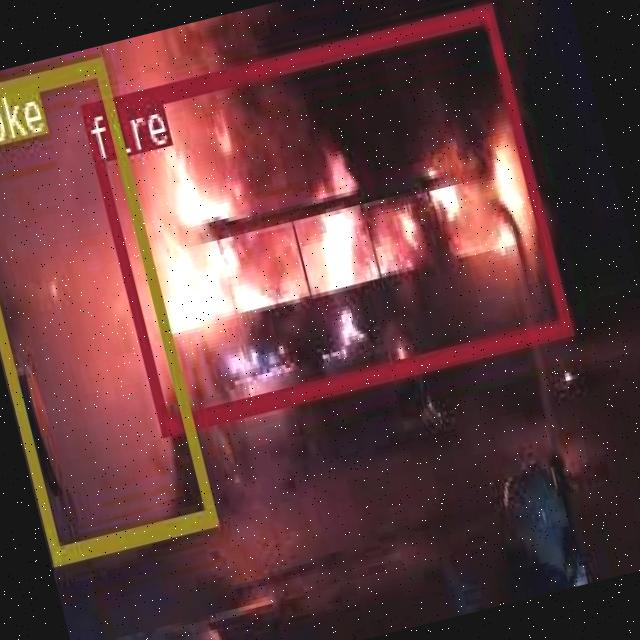fire: (78, 1, 571, 434)
smoke: (0, 54, 215, 563)
